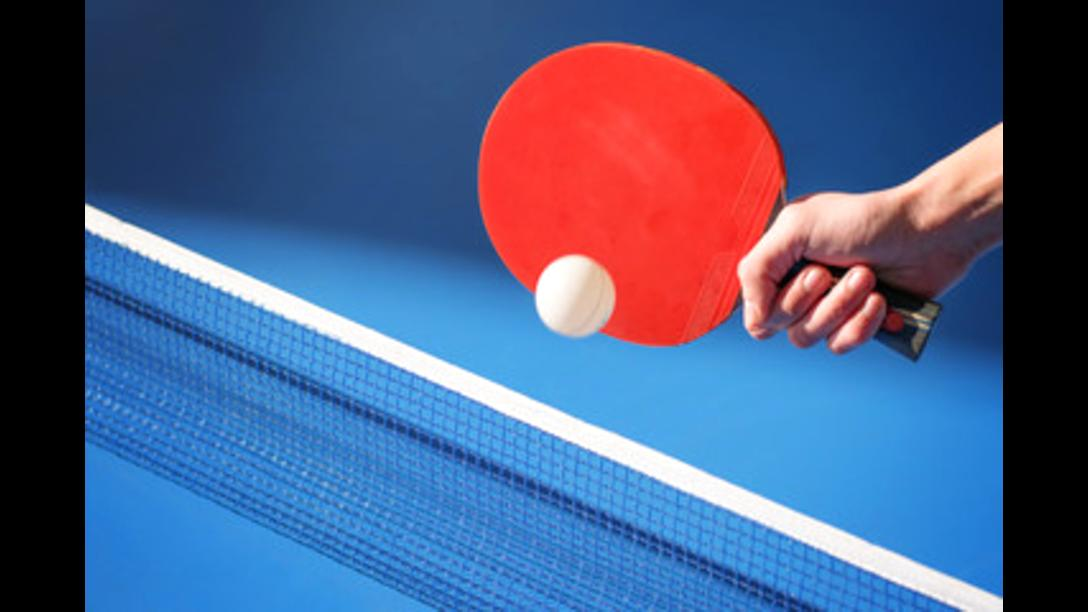Table-Tennis-Ball: (535, 255, 614, 337)
